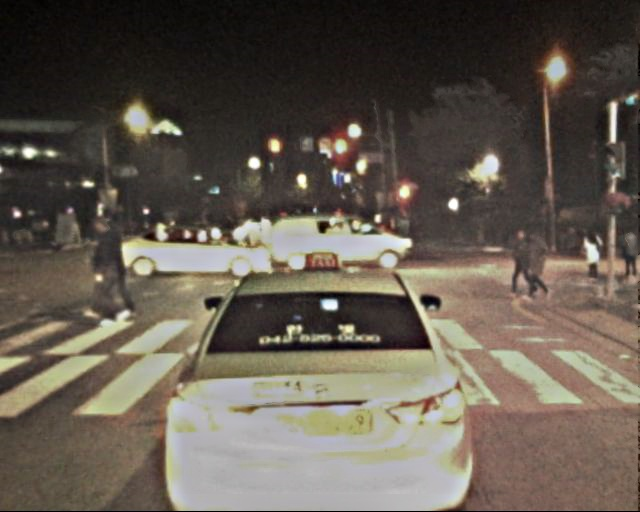person: (88, 213, 132, 321), (507, 229, 535, 298), (524, 230, 552, 299), (581, 227, 604, 282), (618, 226, 640, 281)
